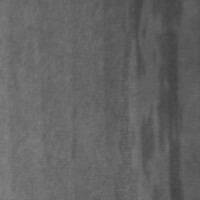inclusion: (137, 1, 185, 199), (126, 1, 150, 83), (65, 106, 83, 164)
